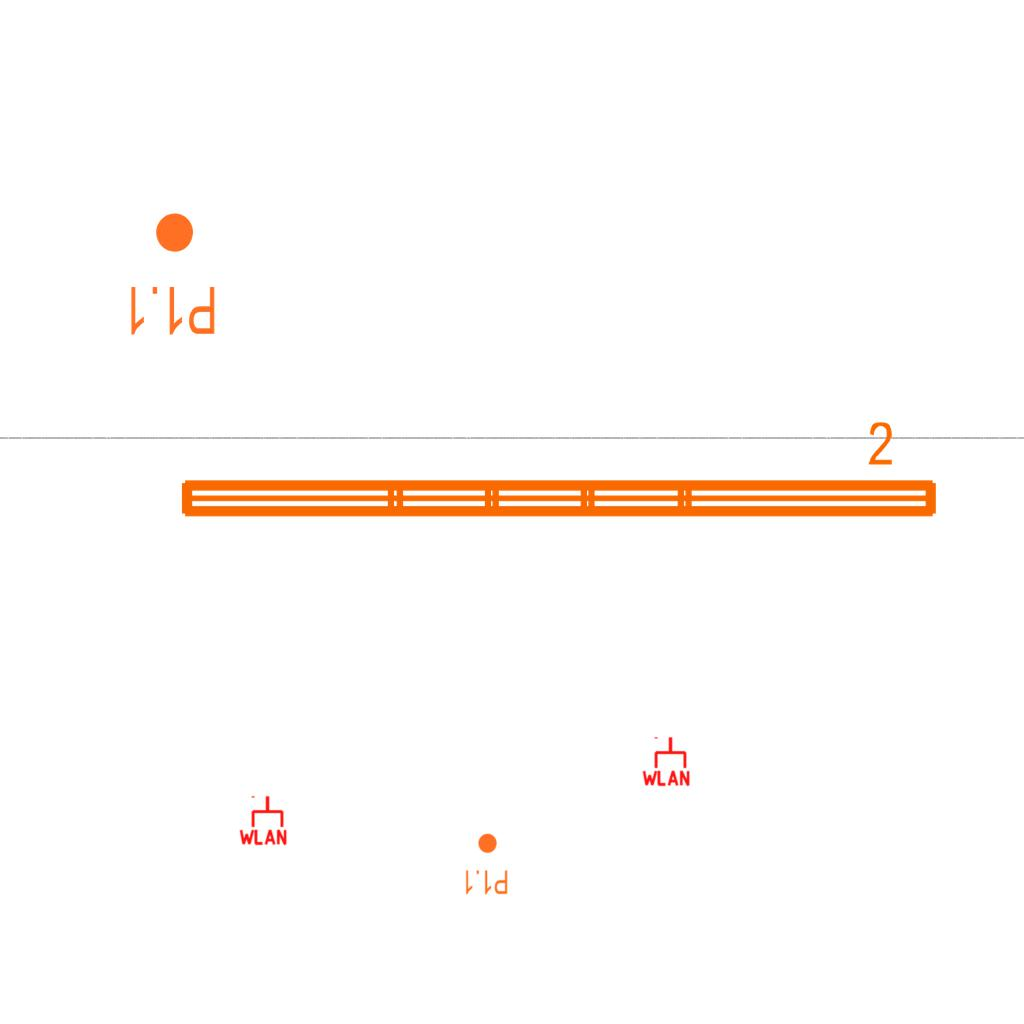Ambulanz_Pendelleuchte_LED: (171, 417, 945, 529)
Downlight_LED_Einbauleuchten_Flur: (125, 210, 218, 338), (463, 832, 509, 896)
WLAN: (237, 794, 289, 846), (640, 735, 692, 787)
